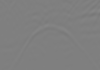hyperbola: (14, 23, 91, 66)
